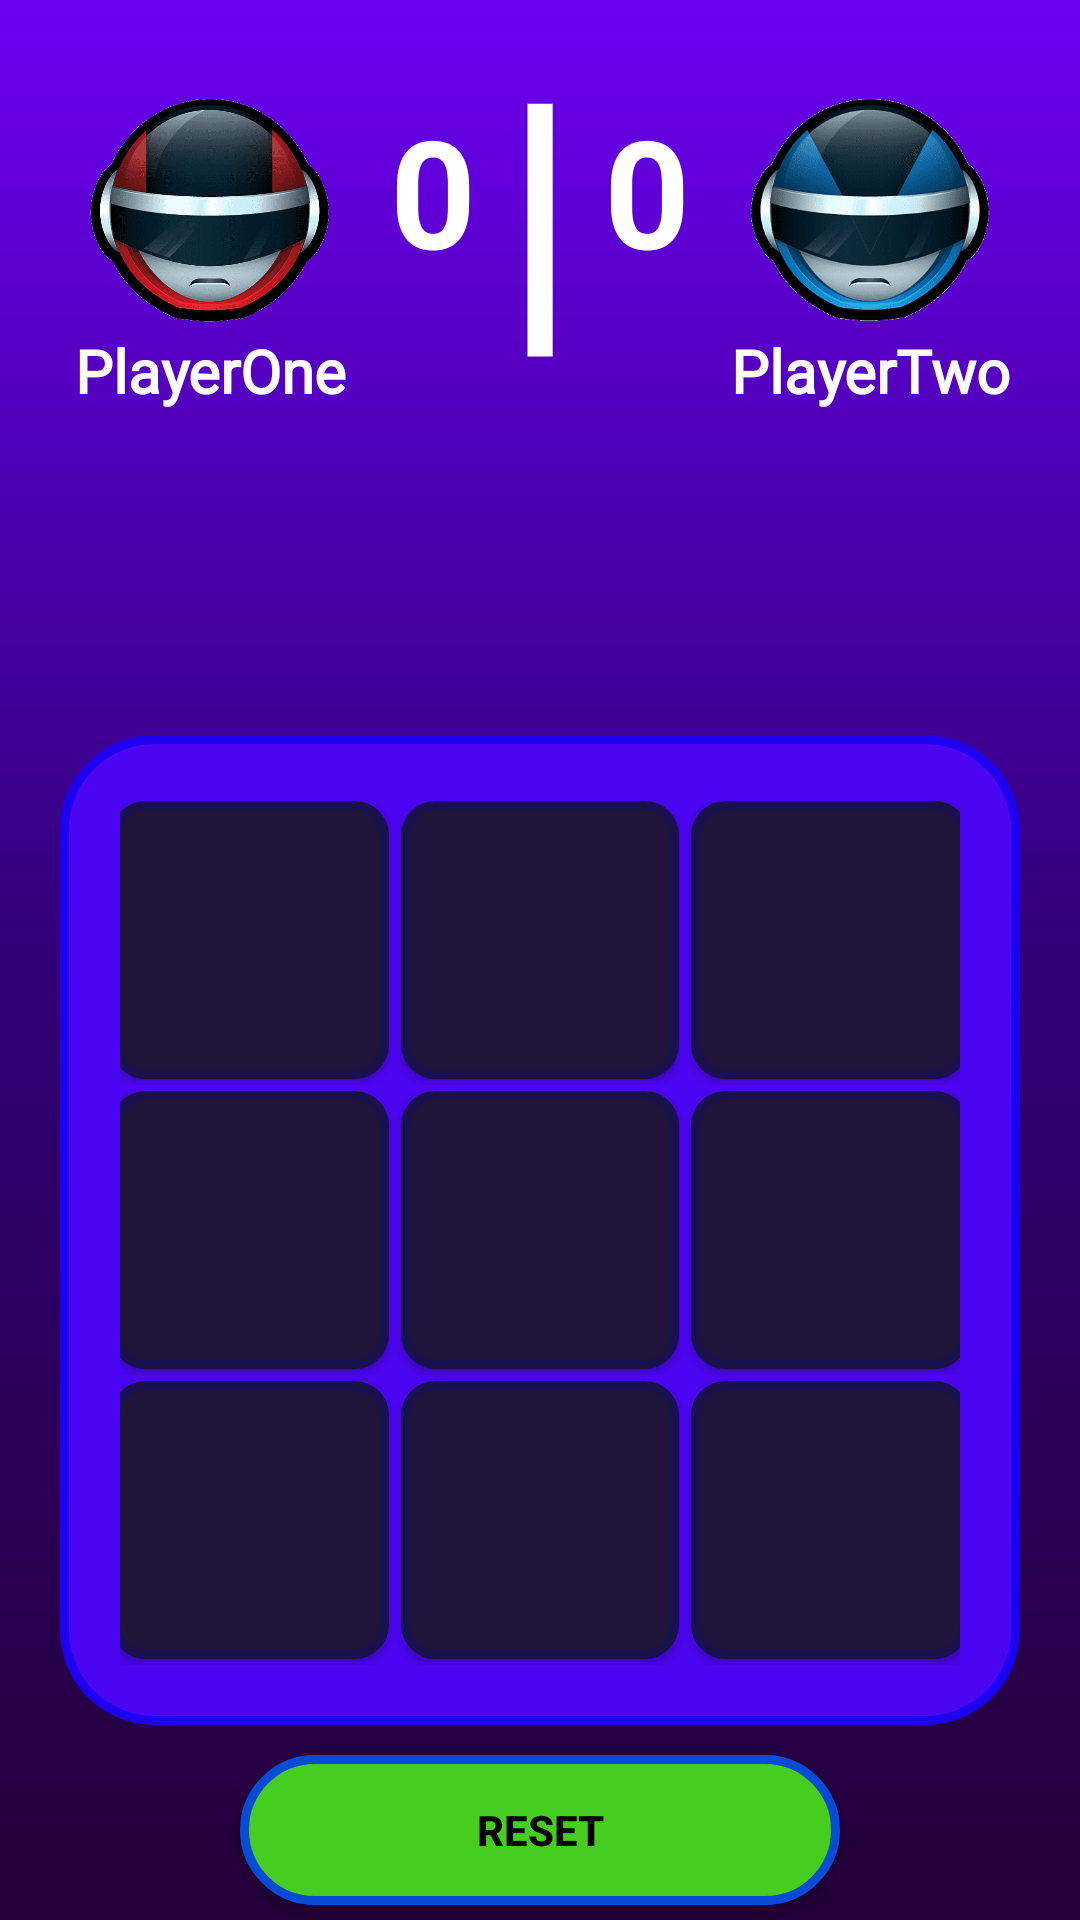

Icon bounding boxes for this 1080w x 1920h phone screenshot, format detection(x1, y1, x2, y2):
robot: detection(90, 99, 330, 330), detection(750, 99, 990, 330)
